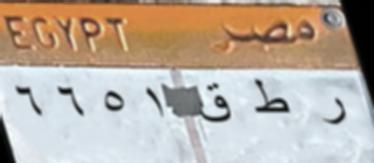1: (141, 84, 167, 128)
5: (99, 80, 129, 121)
6: (54, 78, 90, 123), (14, 78, 50, 122)
Taa: (250, 74, 292, 126)
qaaf: (198, 77, 232, 128)
raa: (319, 88, 351, 134)
